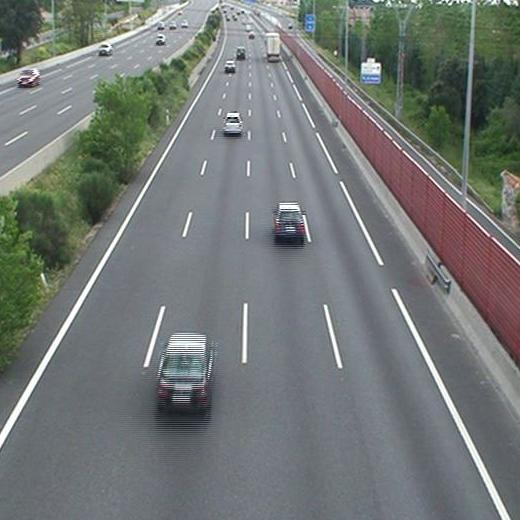car: (158, 334, 211, 406), (274, 203, 305, 236), (224, 112, 242, 132), (224, 61, 235, 70), (237, 48, 246, 59)
truck: (266, 32, 279, 60)
